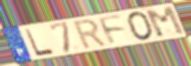7: (48, 21, 73, 55)
F: (96, 14, 129, 47)
L: (23, 27, 57, 58)
M: (144, 5, 188, 40)
O: (126, 10, 155, 42)
R: (72, 17, 110, 51)
